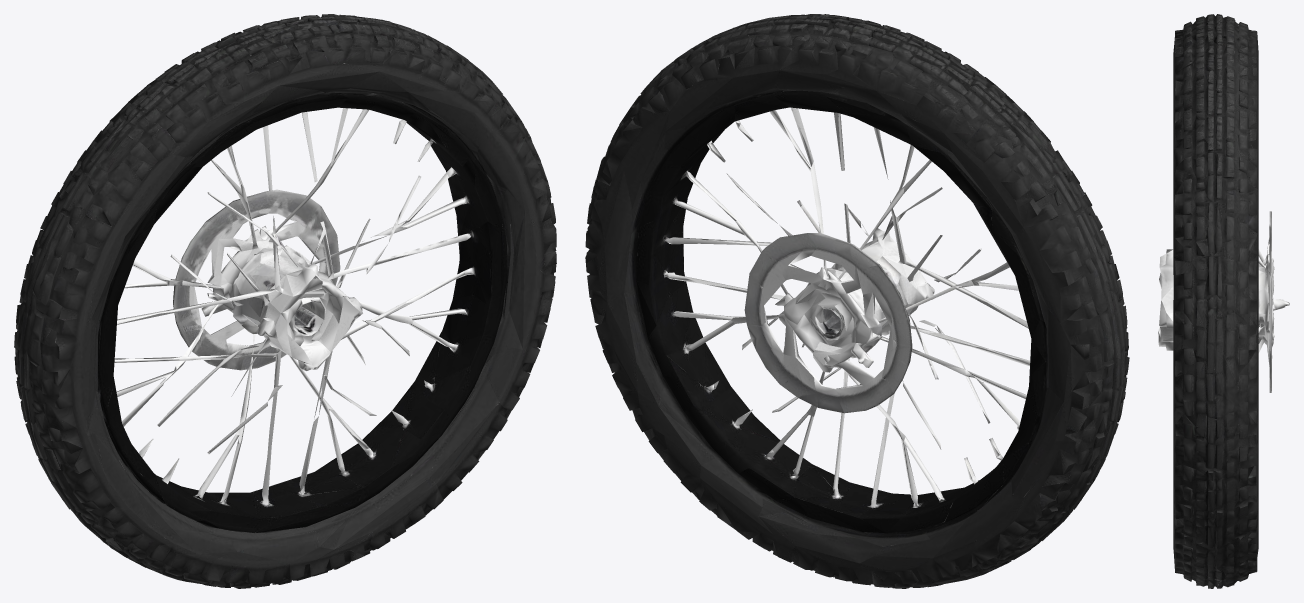
Rendered from wheel.glb.
3 renders of one model, left to right at view 1: azimuth 30°, elevation 25°; view 2: azimuth 150°, elevation 25°; view 3: azimuth 270°, elevation 25°, orthographic. The views are drawn at different scales.
Parts seen in each view (by area): view 1: Mesh_0; view 2: Mesh_0; view 3: Mesh_0.
Part boxes in pixels (box(x1,y1,x2,y2)): Mesh_0: box(14, 14, 556, 588); Mesh_0: box(585, 14, 1129, 588); Mesh_0: box(1158, 14, 1289, 588).
Size of the model in its own units: 1.9 by 1.9 by 0.432.
1 material, 1 textured.
